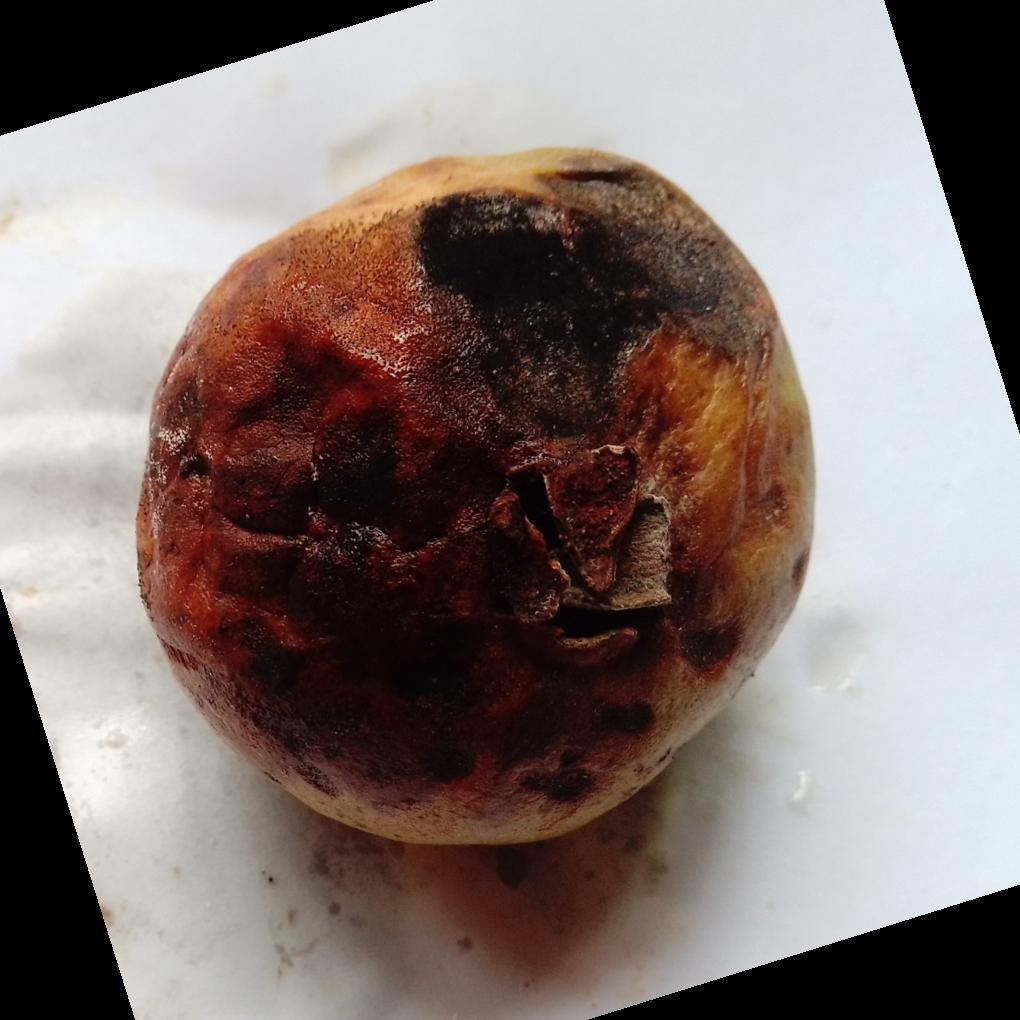FreshOrange: (135, 147, 818, 852)
